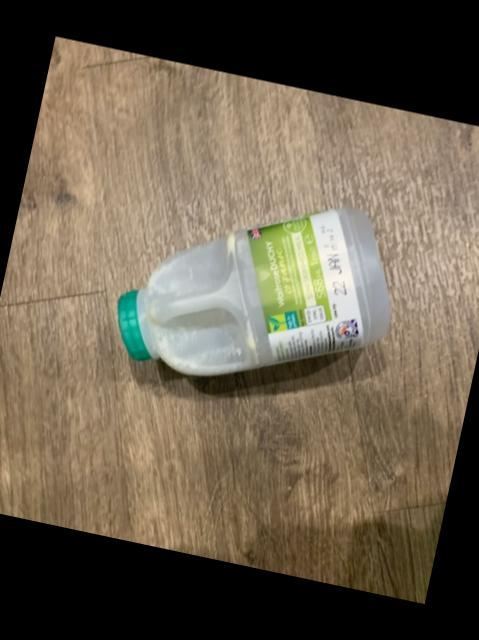plastic: (115, 209, 385, 375)
